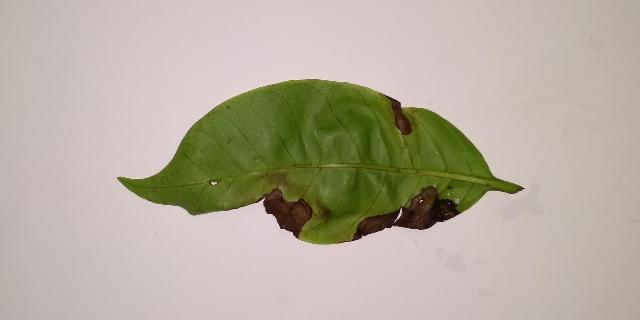rust: (340, 187, 461, 243), (248, 188, 312, 238), (385, 95, 411, 135)
